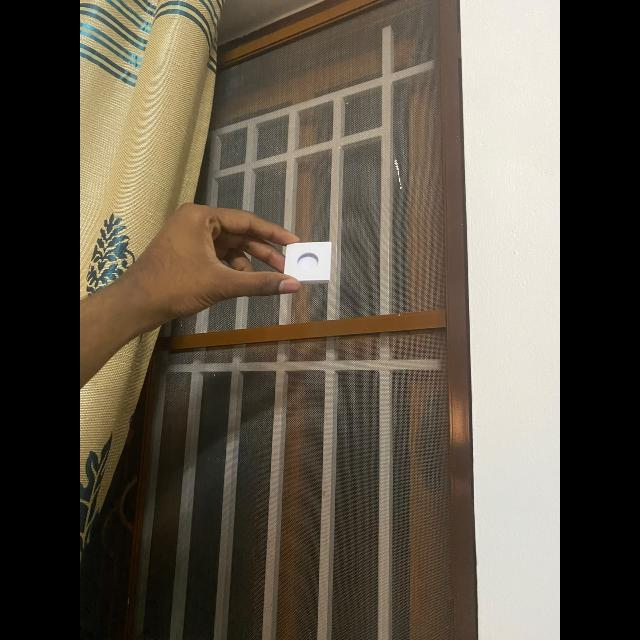RASPBERY PI CAM ENCLOSURE: (284, 241, 332, 283)
